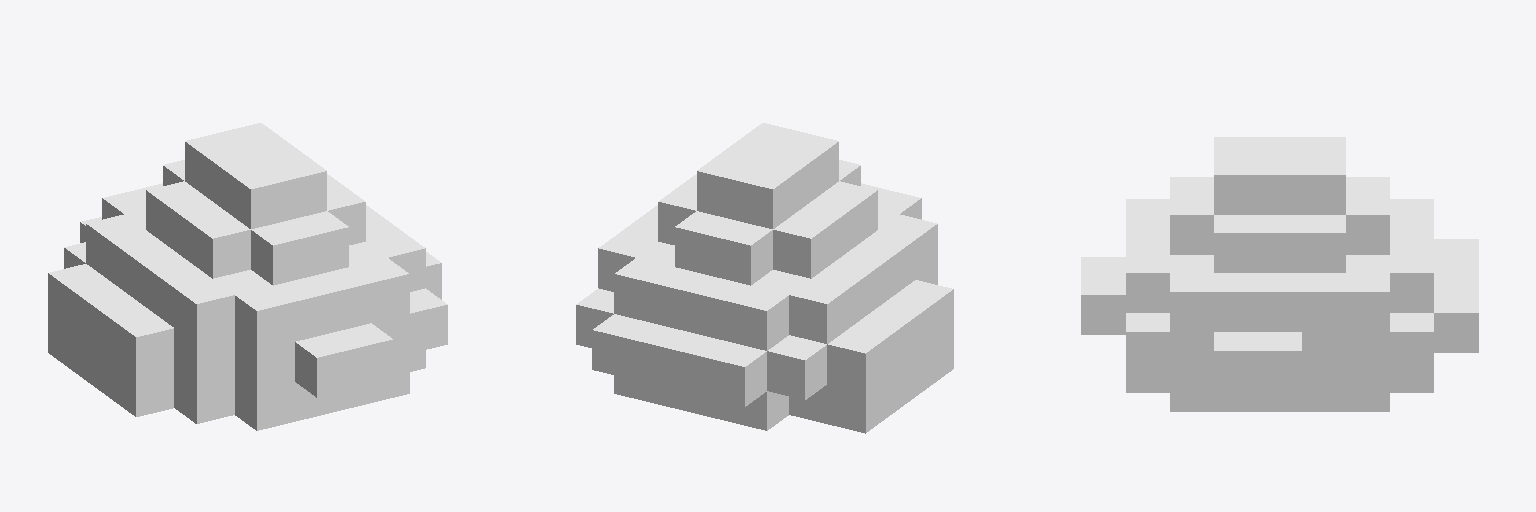
Rendered from HC_Cloud2.obj.
The picture shows the model from 3 angles: view 1: azimuth 30°, elevation 25°; view 2: azimuth 150°, elevation 25°; view 3: azimuth 270°, elevation 25°; orthographic projection.
Visible parts, largest first — view 1: HC_Cloud2; view 2: HC_Cloud2; view 3: HC_Cloud2.
Part boxes in pixels (x1,y1,x2,y2): HC_Cloud2: (48,123,447,430); HC_Cloud2: (576,123,953,433); HC_Cloud2: (1081,137,1478,411).
Size of the model in its own units: 8 by 5 by 9.